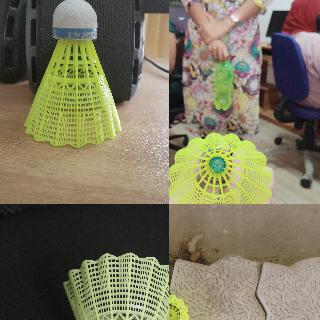shuttlecock: (22, 0, 122, 149), (169, 132, 272, 203), (63, 253, 168, 319), (169, 293, 189, 319)
